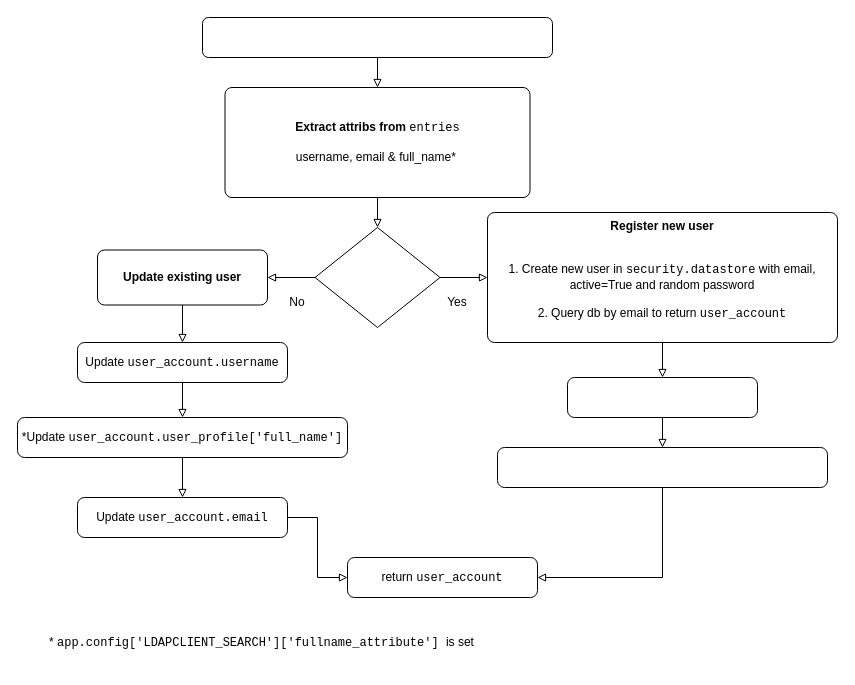
This 855x685 diagram has some shape labels left out. Here are the shapes that lost their labels. From the top down, the centre of each, then its label:
At (x=377, y=37): "_register_or_update_user(entries, user_account)".
At (x=377, y=277): "user_account is None".
At (x=662, y=397): "Set user_account.username".
At (x=662, y=467): "*Set user_account.user_profile['full_name']".
